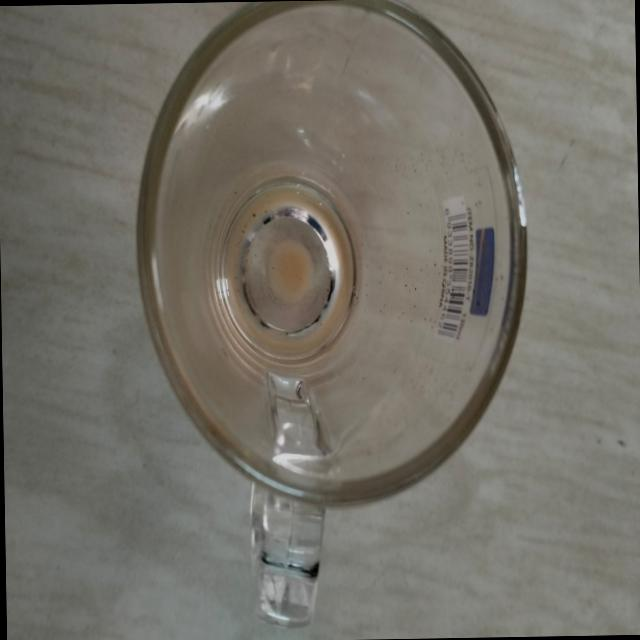glass-VX4N: (126, 0, 531, 633)
